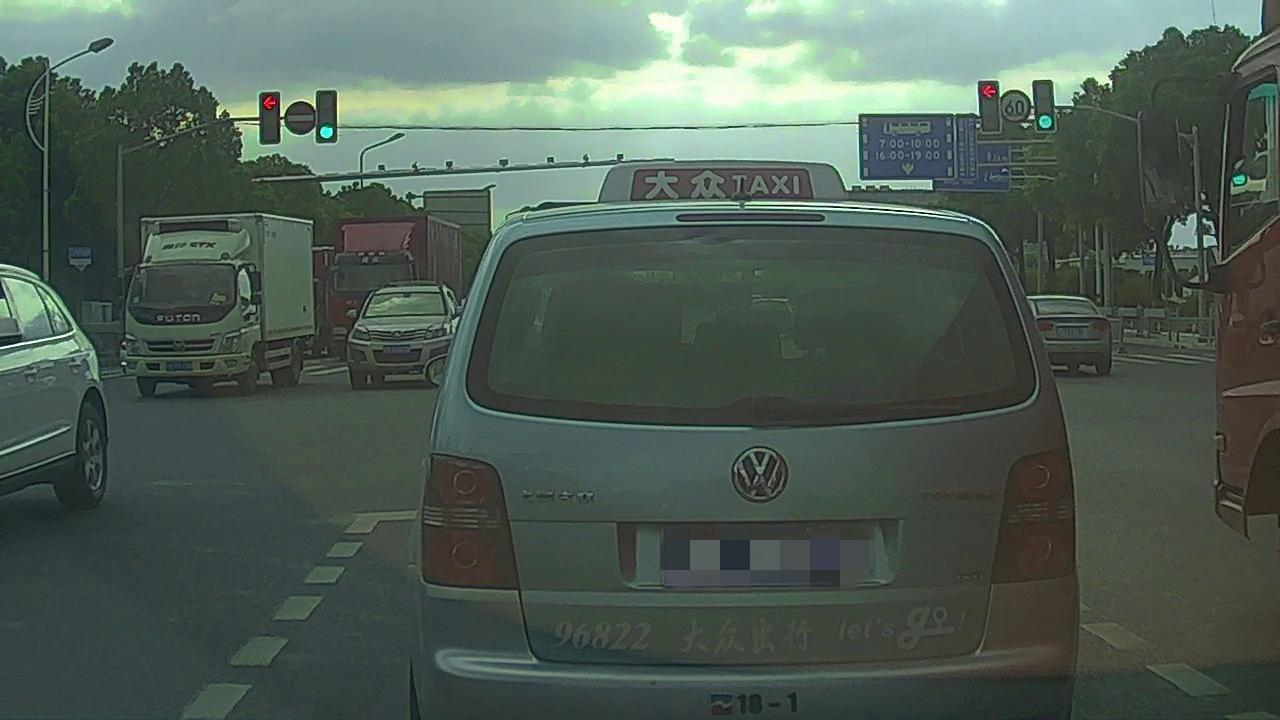traffic_light: (315, 90, 337, 143), (258, 92, 280, 144), (977, 81, 999, 132), (1032, 80, 1054, 131)
